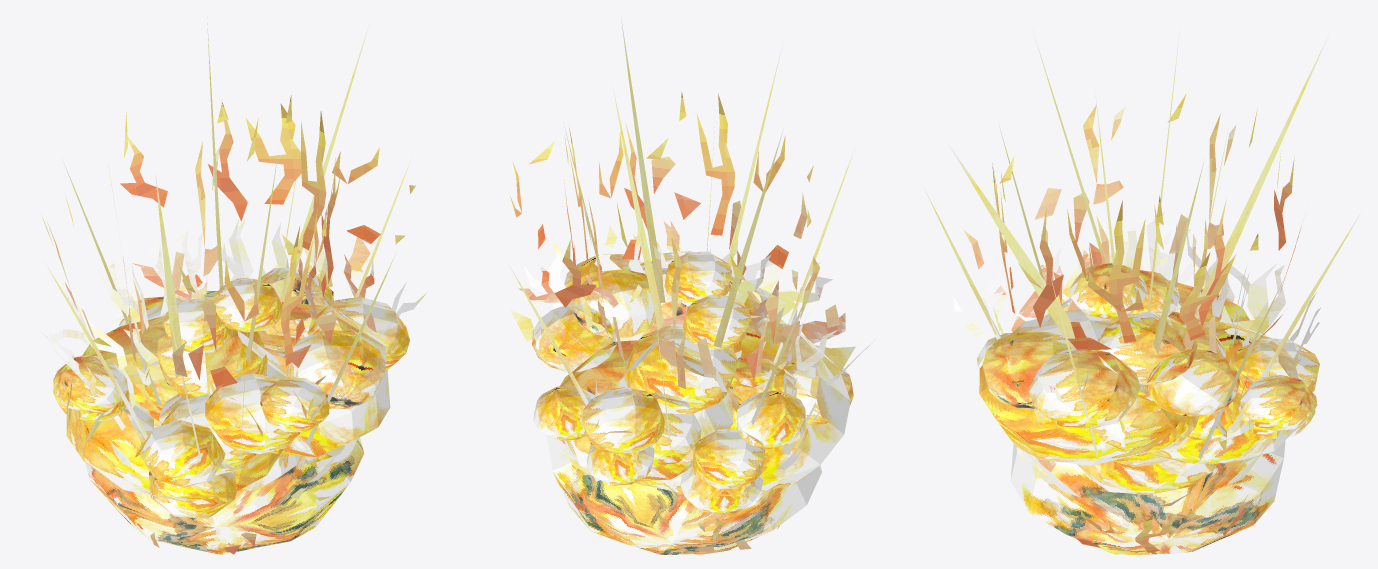
The model's file is timeframe_explosion.glb.
3 views of the same model, side by side, from view 1: azimuth 30°, elevation 25°; view 2: azimuth 150°, elevation 25°; view 3: azimuth 270°, elevation 25° (orthographic). The views are drawn at different scales.
Parts seen in each view (by area): view 1: MSAM_Explosion_1_KivikausiMajaMat; view 2: MSAM_Explosion_1_KivikausiMajaMat; view 3: MSAM_Explosion_1_KivikausiMajaMat.
Boxes of the visible parts, box(x1,y1,x2,y2) form: MSAM_Explosion_1_KivikausiMajaMat: box(39, 17, 426, 554); MSAM_Explosion_1_KivikausiMajaMat: box(507, 17, 875, 554); MSAM_Explosion_1_KivikausiMajaMat: box(923, 27, 1361, 554).
Bounding box in the file's own units: 6.05 × 7.48 × 6.04.
1 material, 1 textured.
